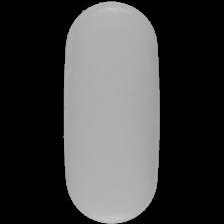54868-5189: (0, 0, 224, 224)
